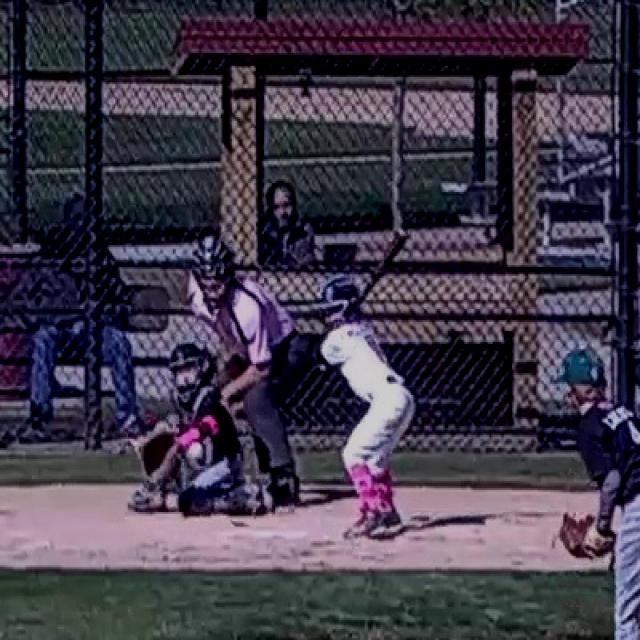baseball: (187, 444, 203, 458)
